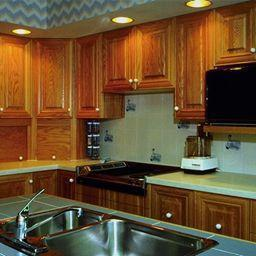Electrodomestico: (82, 161, 168, 190)
Lavaplatos: (6, 187, 218, 251)
